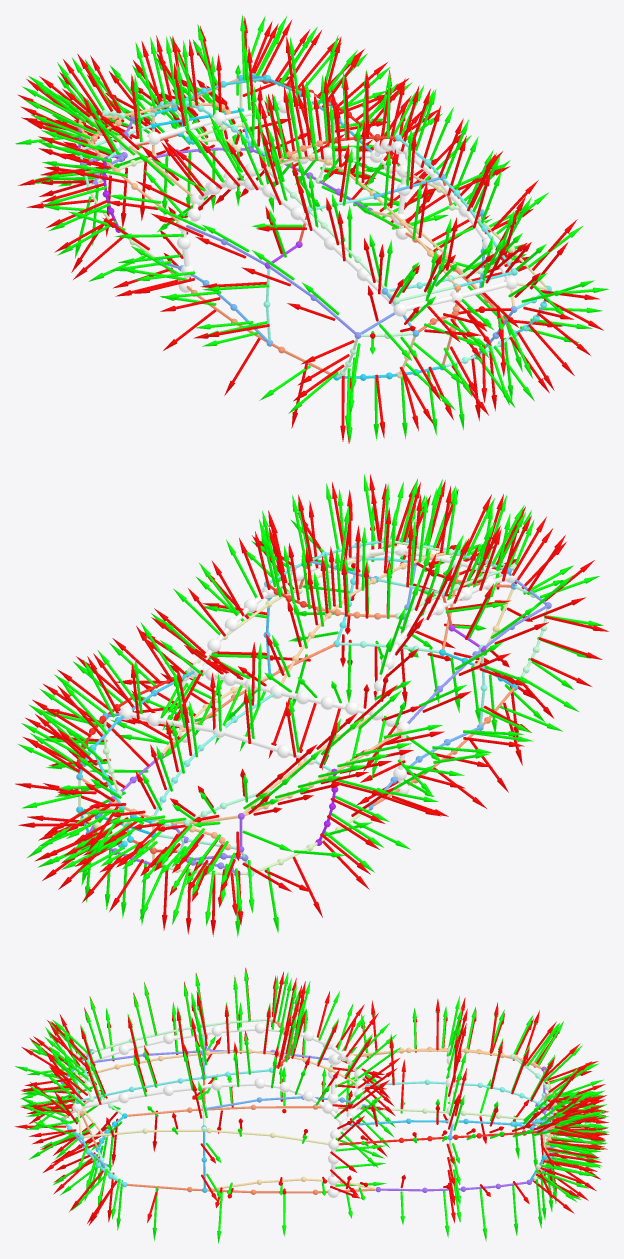
Rendered from ils_car2.gltf.
The picture shows the model from 3 angles, top to bottom: view 1: azimuth 30°, elevation 25°; view 2: azimuth 150°, elevation 25°; view 3: azimuth 270°, elevation 25°; orthographic projection. The views are drawn at different scales.
Size of the model in its own units: 0.5807 by 0.4137 by 1.09.
